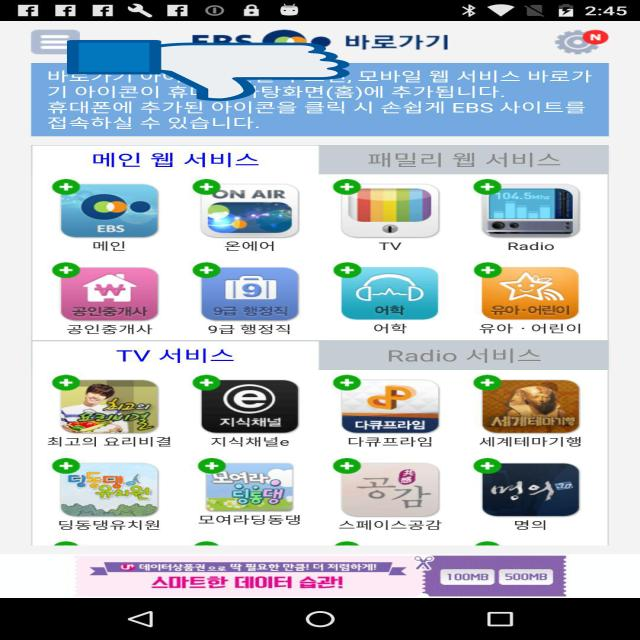obstruction: (67, 39, 350, 102)
